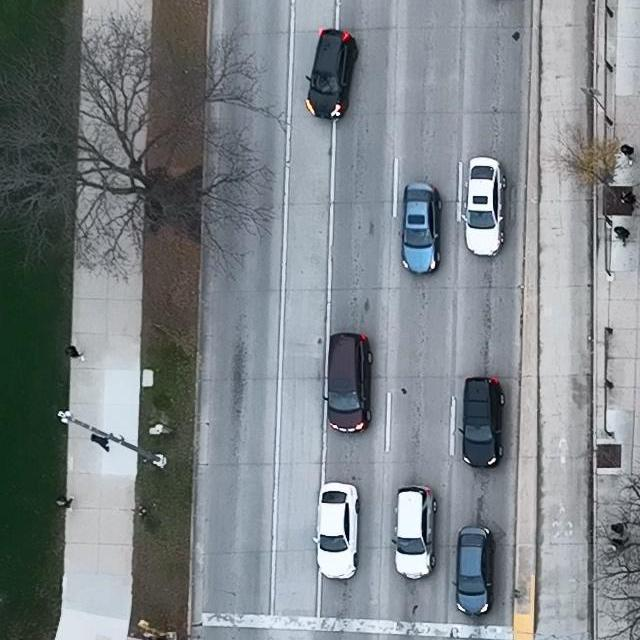car: (321, 332, 373, 434), (461, 156, 508, 258), (311, 483, 361, 578), (306, 29, 358, 120), (456, 378, 507, 470), (391, 486, 438, 581), (397, 181, 443, 277), (451, 525, 495, 617)
